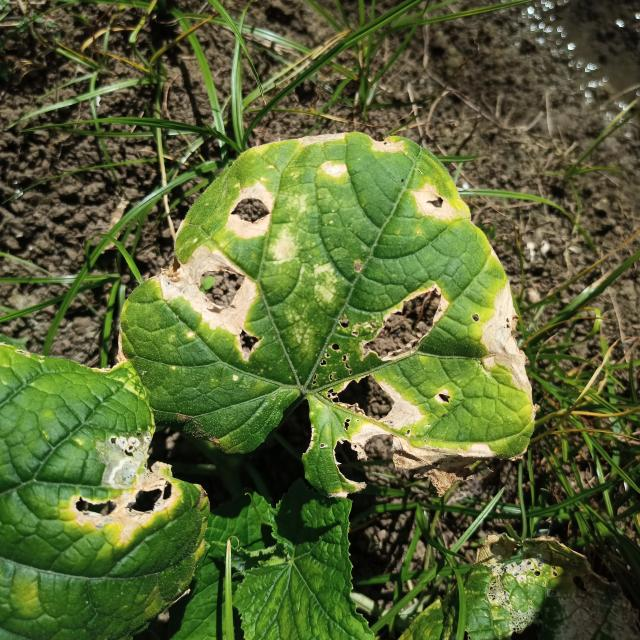disease_cucumber: (152, 134, 532, 470), (58, 440, 181, 542)
